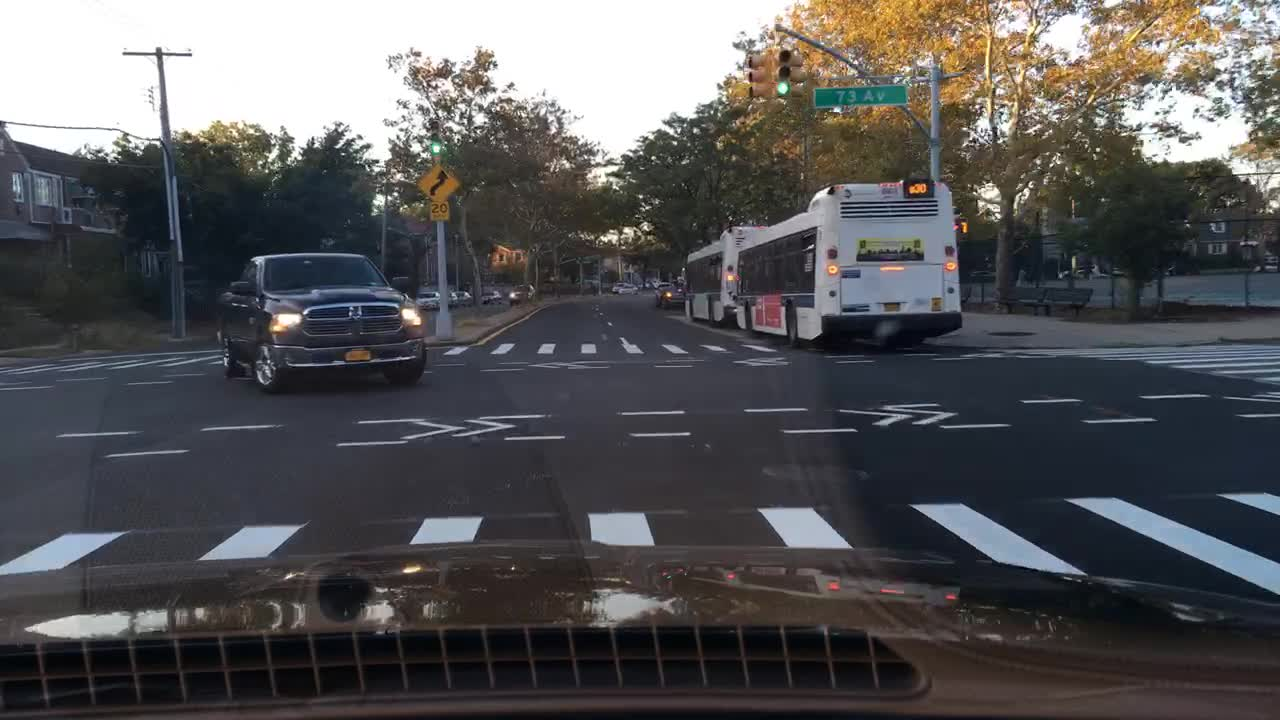bus: (734, 179, 961, 347), (685, 224, 766, 325)
car: (218, 249, 429, 391), (1165, 260, 1198, 319), (1057, 264, 1096, 280), (654, 287, 683, 307), (508, 284, 533, 305), (965, 269, 998, 282), (415, 290, 441, 306), (454, 290, 475, 303), (480, 290, 499, 303), (441, 291, 457, 306), (652, 280, 672, 292), (618, 284, 638, 296), (1108, 267, 1124, 276), (611, 282, 626, 291), (642, 279, 659, 286), (673, 276, 684, 286)
traffic light: (770, 52, 792, 101), (749, 56, 769, 99), (792, 55, 805, 99), (431, 121, 441, 153), (954, 214, 967, 237)
traffic sign: (815, 86, 903, 107), (417, 164, 458, 199), (429, 202, 448, 220)
